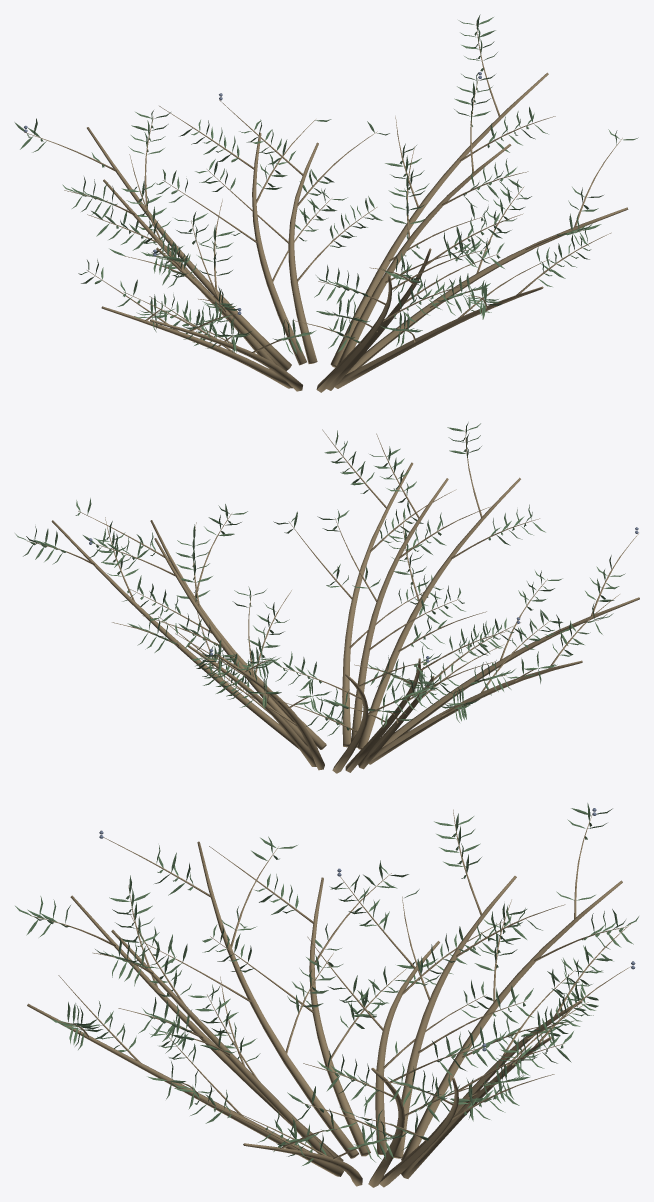
The model's file is Romarin_2_Niveau1.fbx.
The picture shows the model from 3 angles, top to bottom: view 1: azimuth 30°, elevation 25°; view 2: azimuth 150°, elevation 25°; view 3: azimuth 270°, elevation 25°; orthographic projection. The views are drawn at different scales.
Parts seen in each view (by area): view 1: Romarin_2_Niveau1_Jeu; view 2: Romarin_2_Niveau1_Jeu; view 3: Romarin_2_Niveau1_Jeu.
Boxes of the visible parts, <box> form: Romarin_2_Niveau1_Jeu: <box>14,14,638,392</box>; Romarin_2_Niveau1_Jeu: <box>15,422,639,773</box>; Romarin_2_Niveau1_Jeu: <box>15,803,638,1187</box>.
Bounding box in the file's own units: 91.16 × 40.04 × 80.32.
